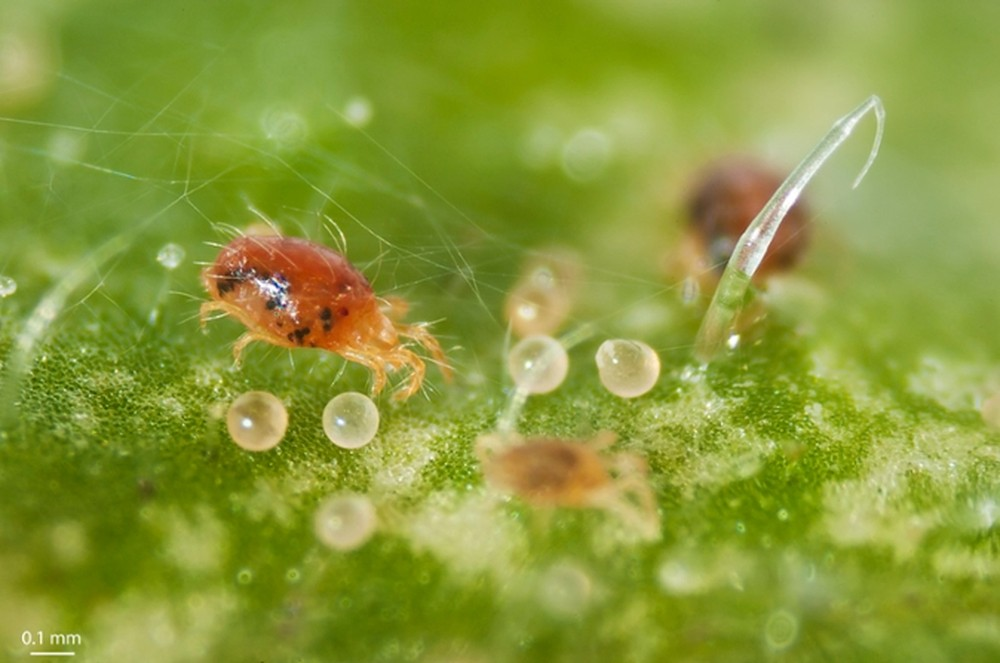Aracnido Rojo: (177, 208, 473, 415), (477, 415, 675, 539)
